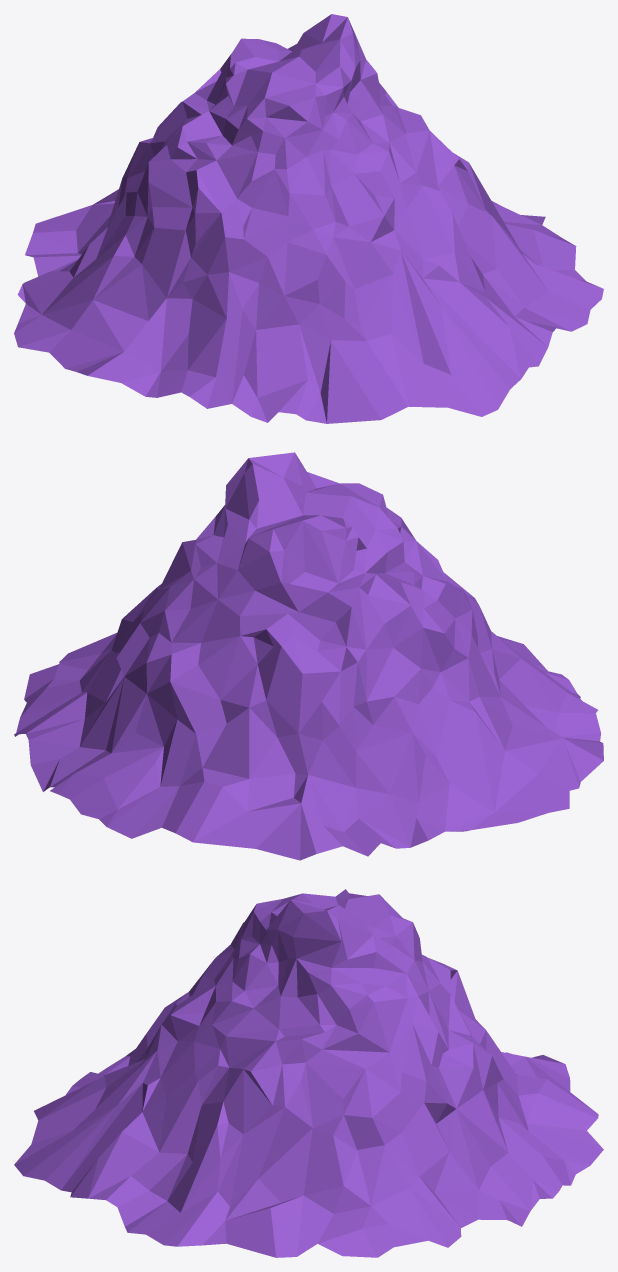
Rendered from little rock_03.fbx.
The picture shows the model from 3 angles, top to bottom: view 1: azimuth 30°, elevation 25°; view 2: azimuth 150°, elevation 25°; view 3: azimuth 270°, elevation 25°; orthographic projection. The views are drawn at different scales.
Visible parts, largest first — view 1: littlerock3; view 2: littlerock3; view 3: littlerock3.
Part boxes in pixels (x1=…): littlerock3: x1=14, y1=14, x2=603, y2=423; littlerock3: x1=14, y1=452, x2=603, y2=860; littlerock3: x1=14, y1=889, x2=603, y2=1257.
Bounding box in the file's own units: 304 × 153 × 304.
